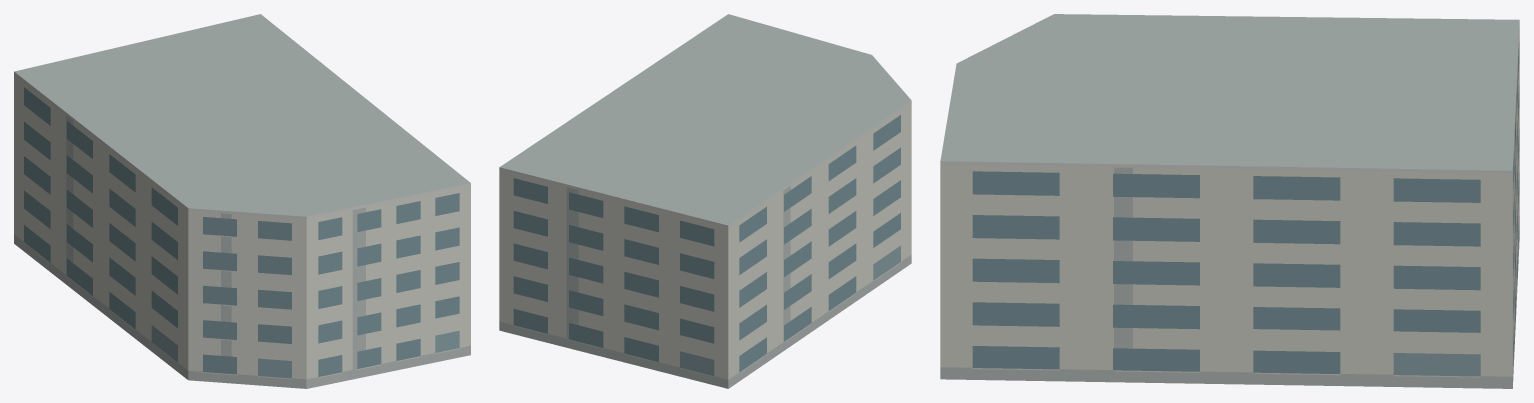
Rendered from residential-f190f1ab-f077-48ac-bc8c-5ce76f3a0849.glb.
The picture shows the model from 3 angles, left to right: view 1: azimuth 30°, elevation 25°; view 2: azimuth 150°, elevation 25°; view 3: azimuth 270°, elevation 25°; orthographic projection. The views are drawn at different scales.
Visible parts, largest first — view 1: residential-f190f1ab-f077-48ac-bc8c-5ce76f3a0849.tmp; view 2: residential-f190f1ab-f077-48ac-bc8c-5ce76f3a0849.tmp; view 3: residential-f190f1ab-f077-48ac-bc8c-5ce76f3a0849.tmp.
Part boxes in pixels (x1,y1,x2,y2): residential-f190f1ab-f077-48ac-bc8c-5ce76f3a0849.tmp: [14, 14, 470, 388]; residential-f190f1ab-f077-48ac-bc8c-5ce76f3a0849.tmp: [499, 14, 911, 388]; residential-f190f1ab-f077-48ac-bc8c-5ce76f3a0849.tmp: [940, 14, 1519, 388].
Size of the model in its own units: 23.49 by 15.25 by 36.69.
